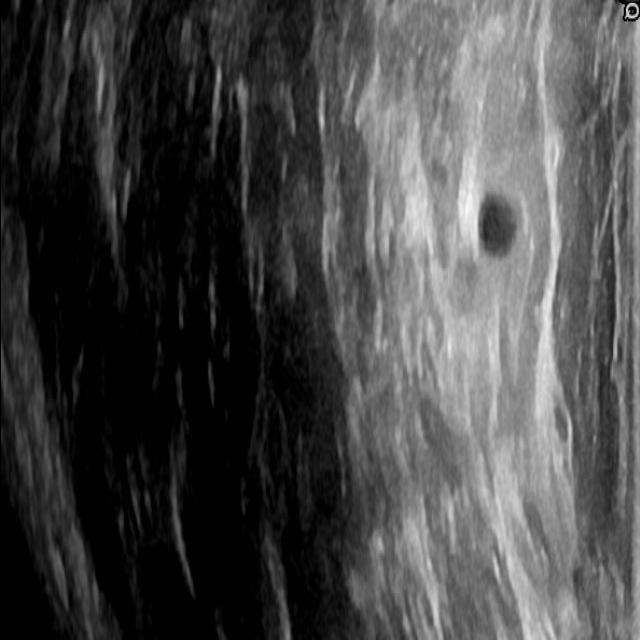Benign: (468, 194, 522, 270)
